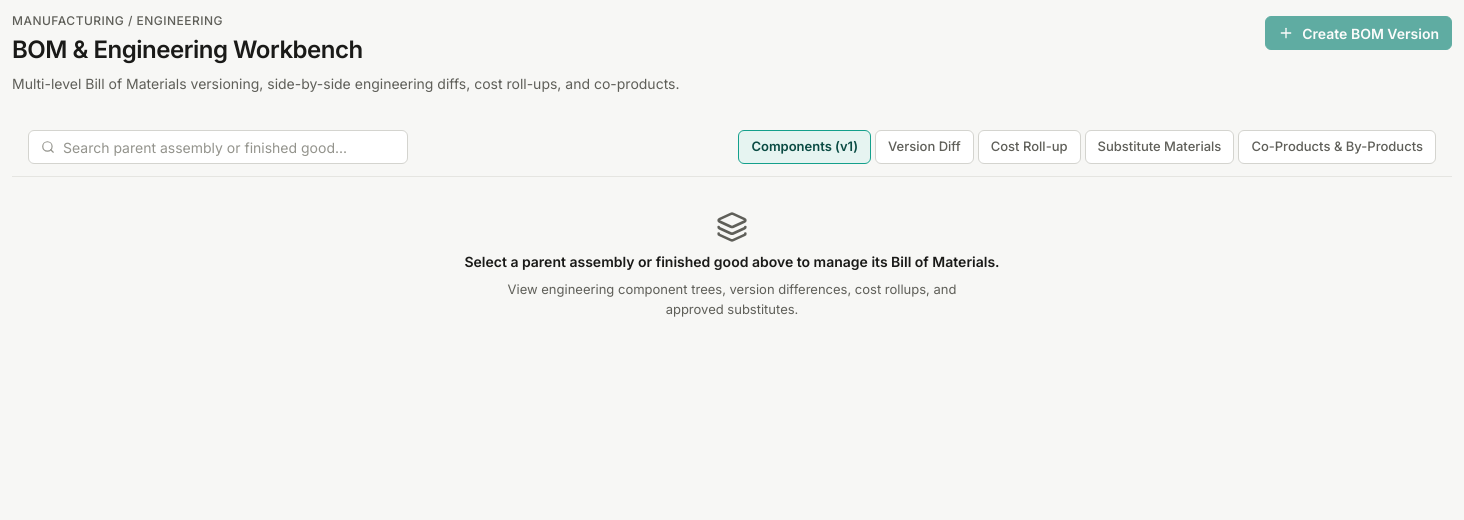
Test: BomManagerPage › allows navigating tabs and displays cost roll-up and substitute materials
The width and height of the screenshot is (1464, 520).
Note: Select parent item
Click the dropdown named "Parent Assembly / Finished Good": (229, 147) [63,137,395,158]
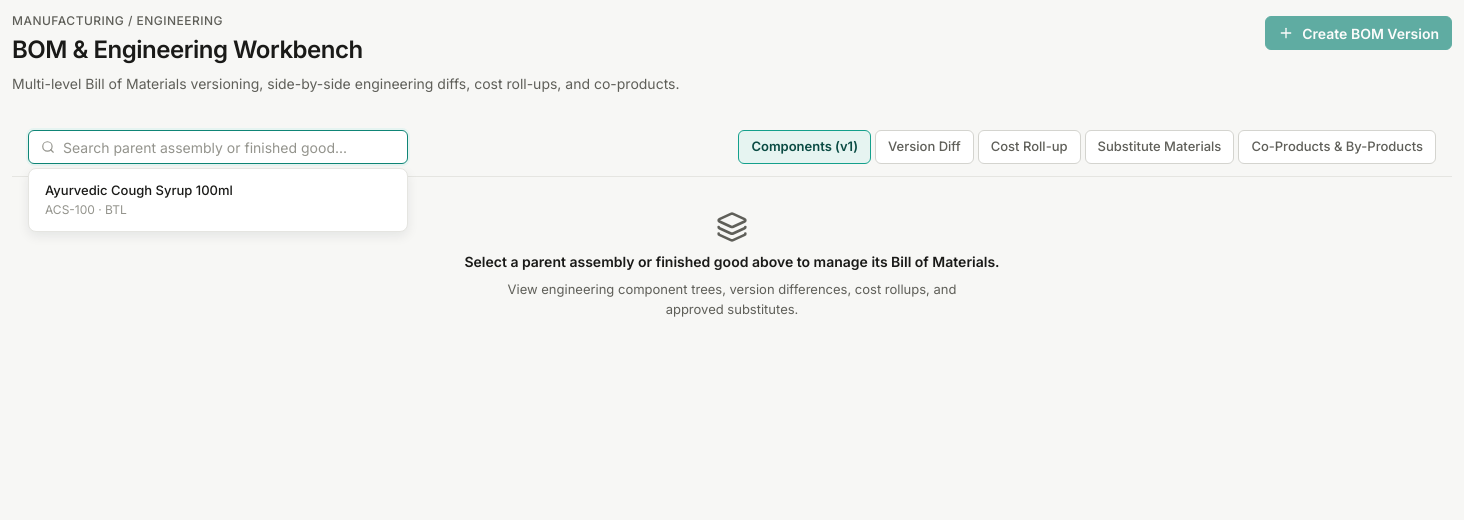
Click the option "Ayurvedic Cough Syrup 100ml ACS-100 · BTL": (139, 199) [45,182,233,217]
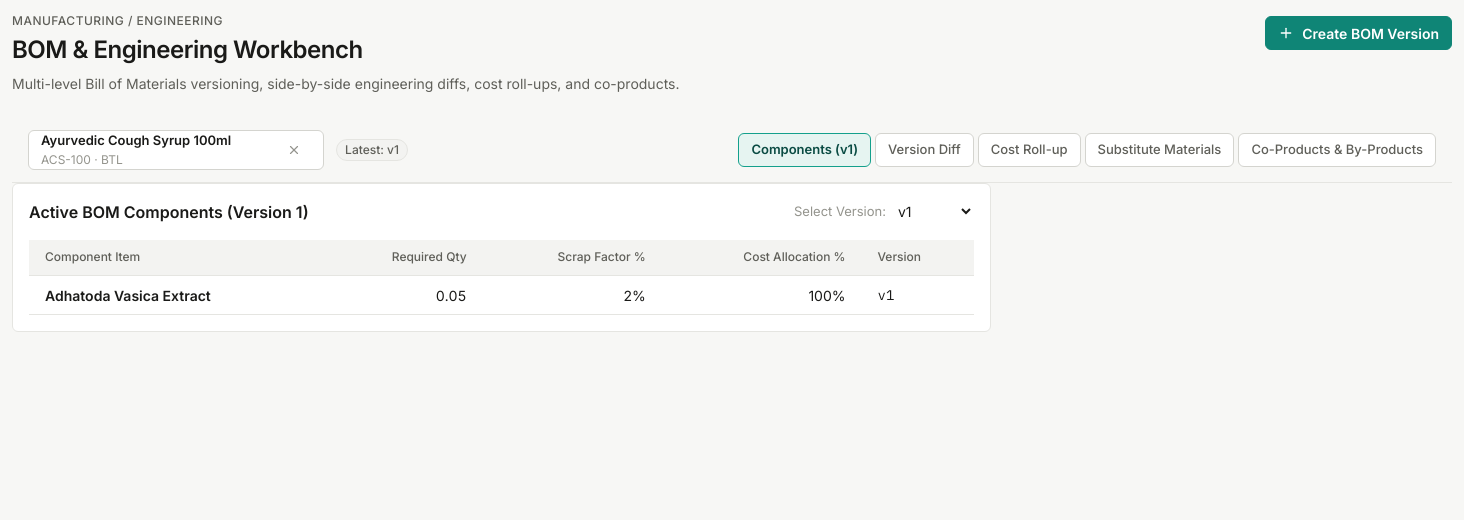
Now the text "Adhatoda Vasica Extract" is shown, box [45,287,211,304]
Note: Click Cost Roll-up tab
Click the button "Cost Roll-up": (1029, 150) [978,133,1080,167]
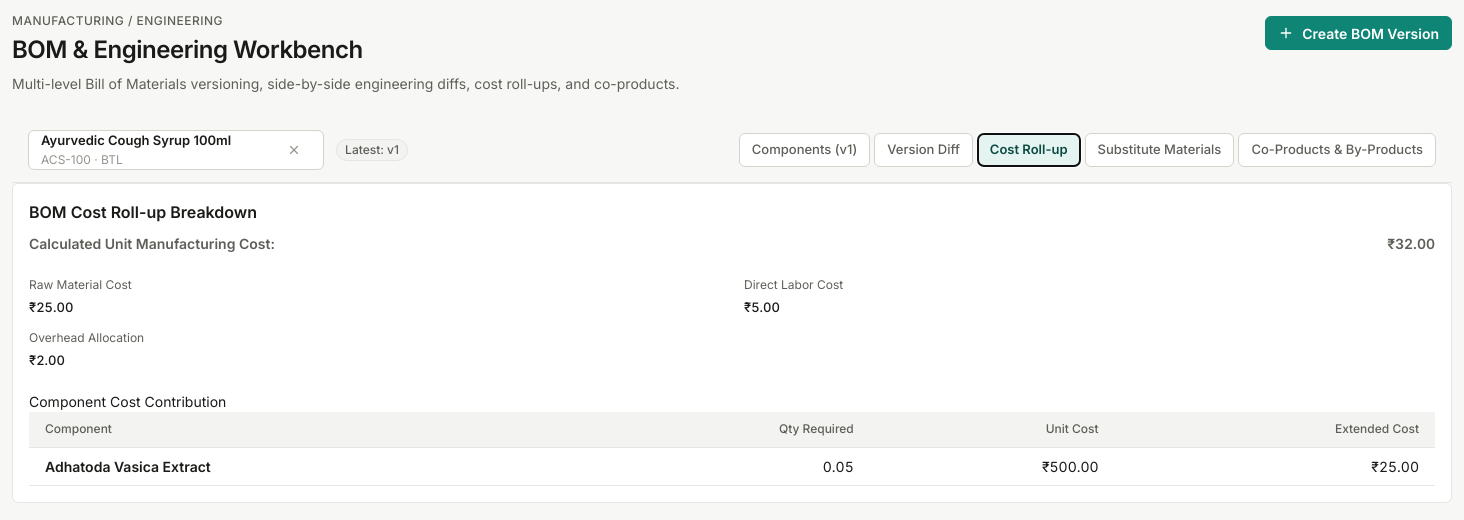
Now the text "Calculated Unit Manufacturing Cost:" is shown, box [29,233,275,254]
Now the text "₹32.00" is shown, box [1387,233,1435,254]
Note: Click Substitute Materials tab
Click the button "Substitute Materials": (1159, 150) [1084,133,1234,167]
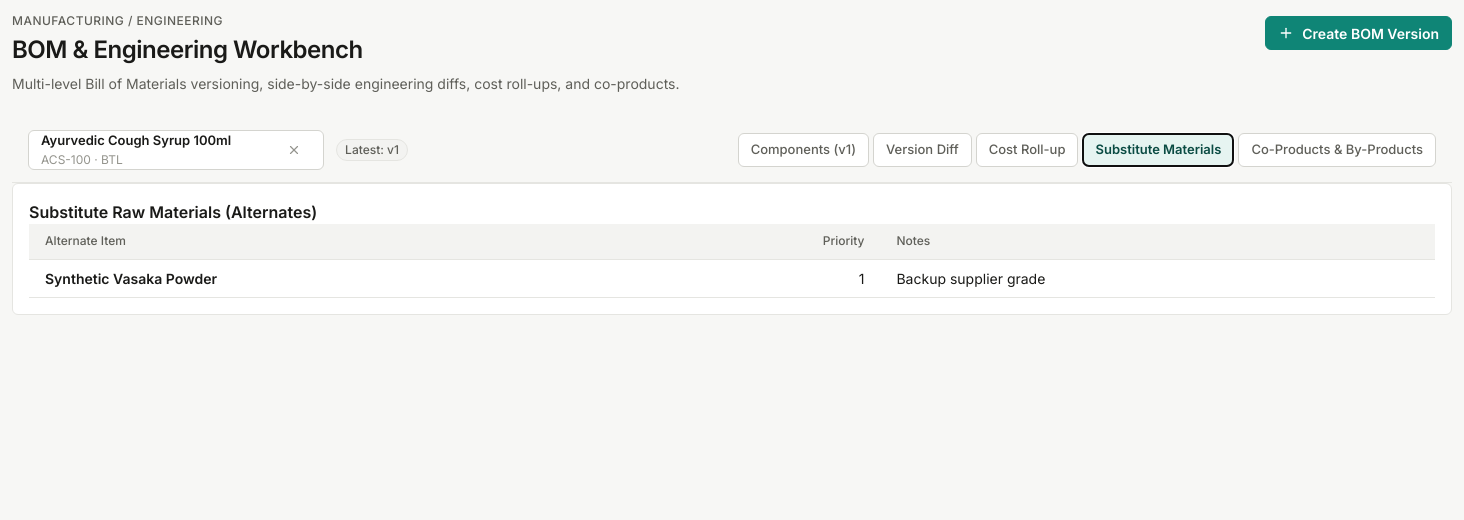
Now the text "Synthetic Vasaka Powder" is shown, box [45,270,217,287]
Now the text "Backup supplier grade" is shown, box [880,260,1435,298]
